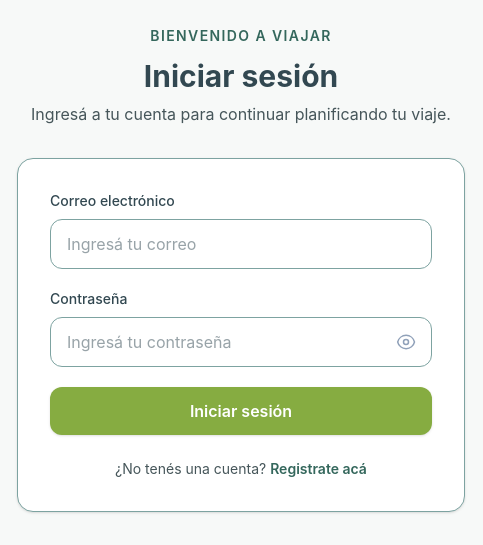
Pruebas del inicio de sesión › muestra error si el correo no es válido
Step 1. Type "correo-invalido" into the field with placeholder "Ingresá tu correo" → (241, 244), box [50,218,432,268]
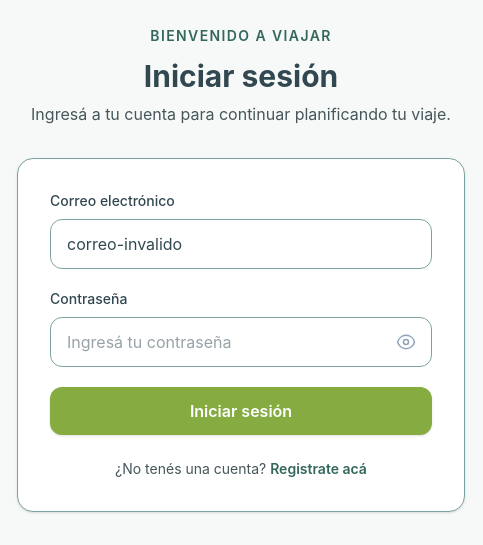
Step 2. Type "12345678" into the password field with placeholder "Ingresá tu contraseña" → (241, 342), box [50,316,432,366]
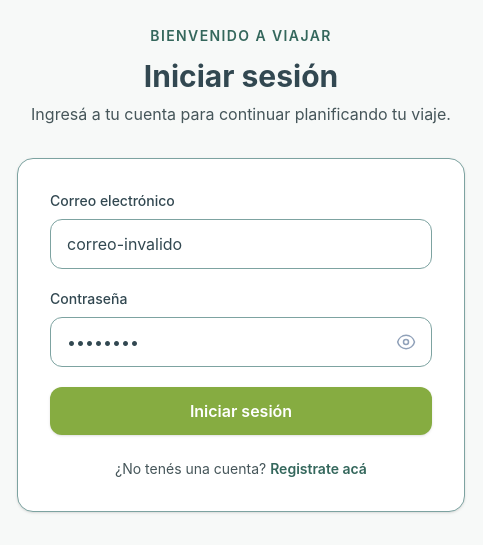
Step 3. Click the button "Iniciar sesión" → (241, 410), box [50,386,432,434]
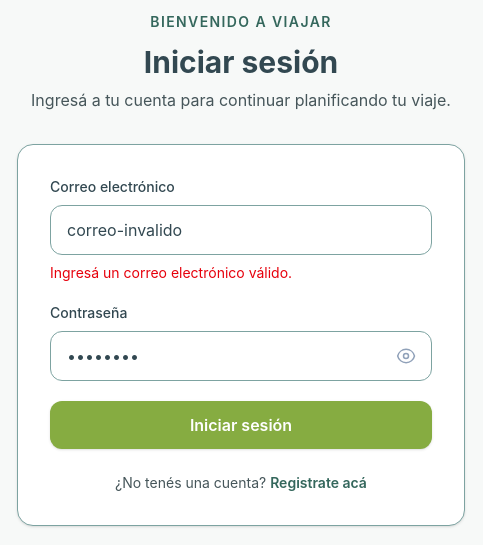
Now the text "Ingresá un correo electrónico válido." is shown, box [50,264,292,280]
